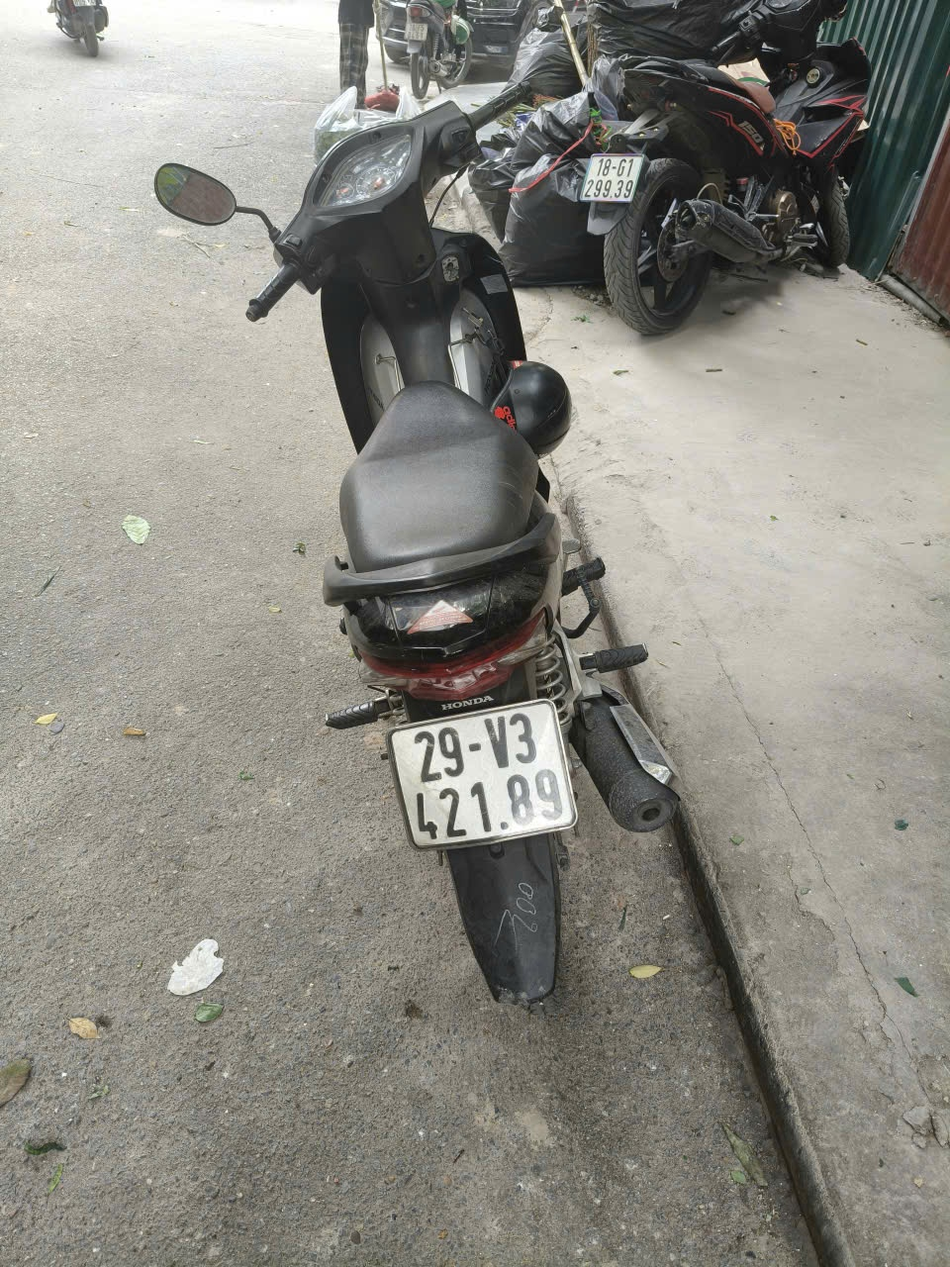plate: (195, 636, 257, 661)
